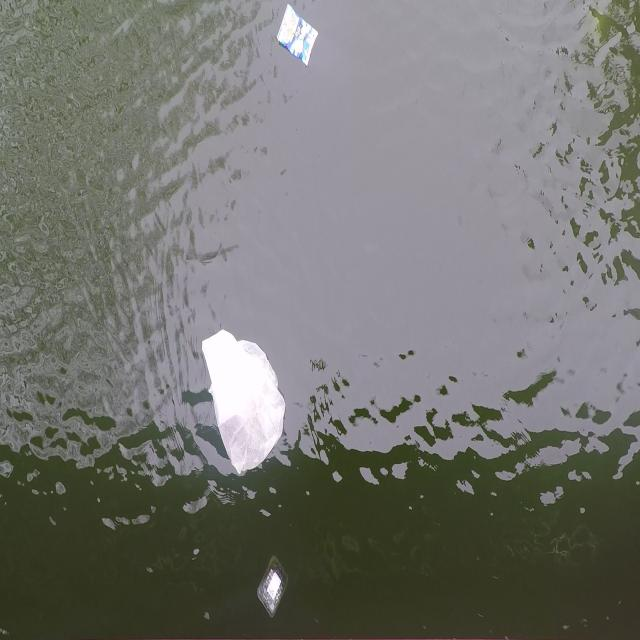Autre plastique: (271, 0, 322, 72), (253, 561, 291, 628)
Sac plastique: (198, 326, 291, 484)
